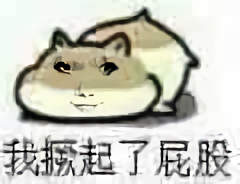dragon: (54, 58, 118, 112)
